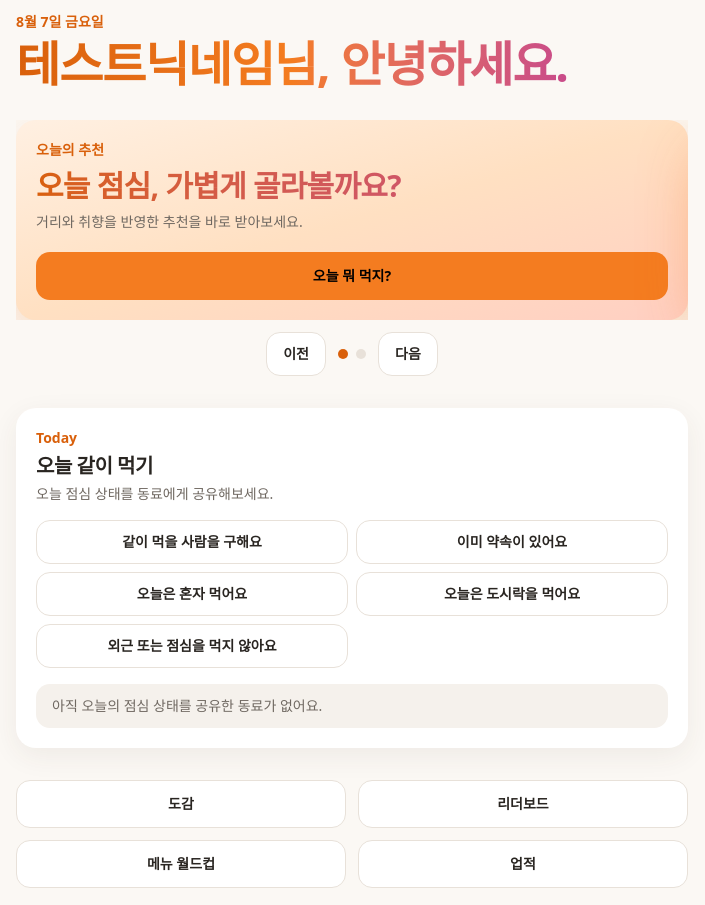
HomePage › 확인 대기 중인 약속이 있으면 방문 확인 섹션에 보여준다
The image size is (705, 905).
Click the button named "2번째 Hero" at (361, 354), box [356, 349, 366, 359]
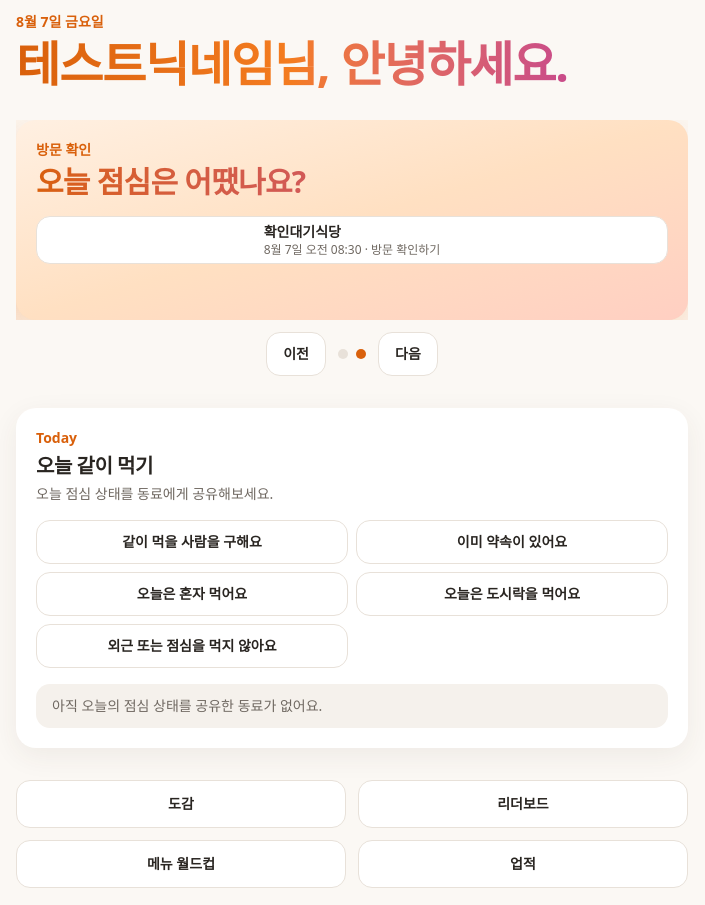
Expected: the text "방문 확인" is shown, [36, 140, 91, 159]
